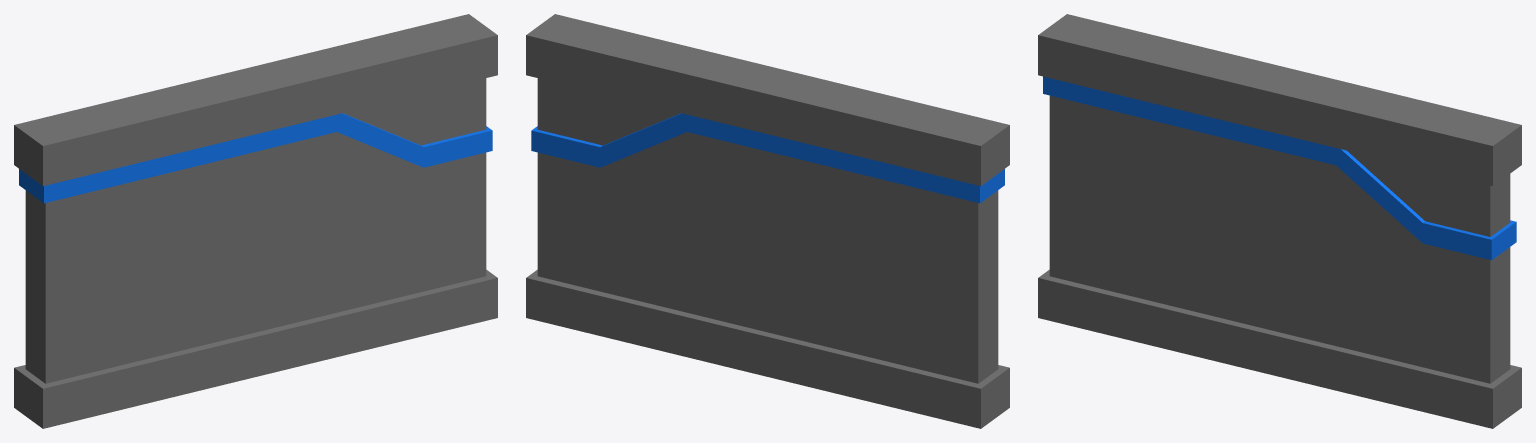
Rendered from bluekeycard.fbx.
3 views of the same model, side by side, from view 1: azimuth 30°, elevation 25°; view 2: azimuth 150°, elevation 25°; view 3: azimuth 330°, elevation 25° (orthographic).
Visible parts, largest first — view 1: keycardred; view 2: keycardred; view 3: keycardred.
Part boxes in pixels (x1,y1,x2,y2): keycardred: (14,14,497,428); keycardred: (526,14,1009,428); keycardred: (1038,14,1521,428).
Size of the model in its own units: 0.2247 by 0.1335 by 0.0248.
